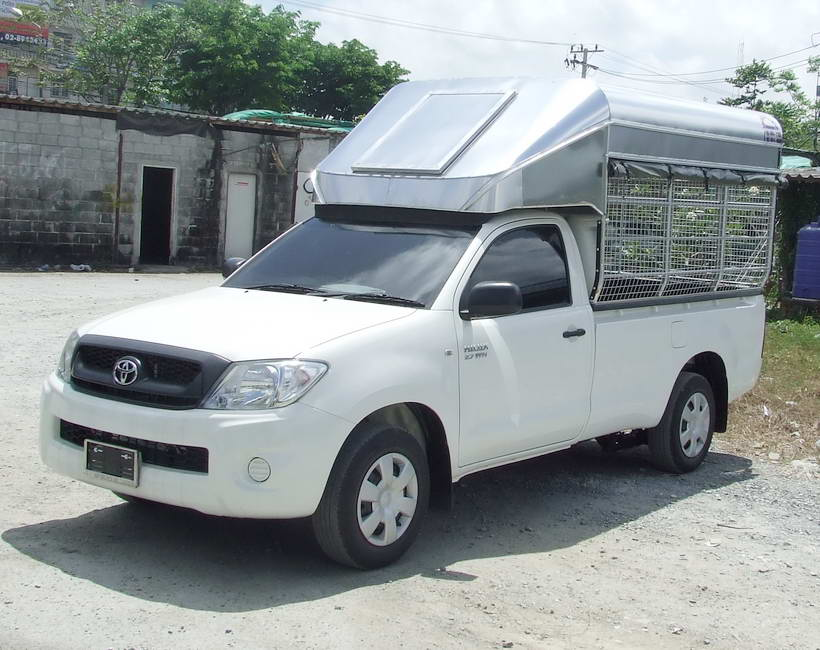pickup: (41, 195, 770, 569)
